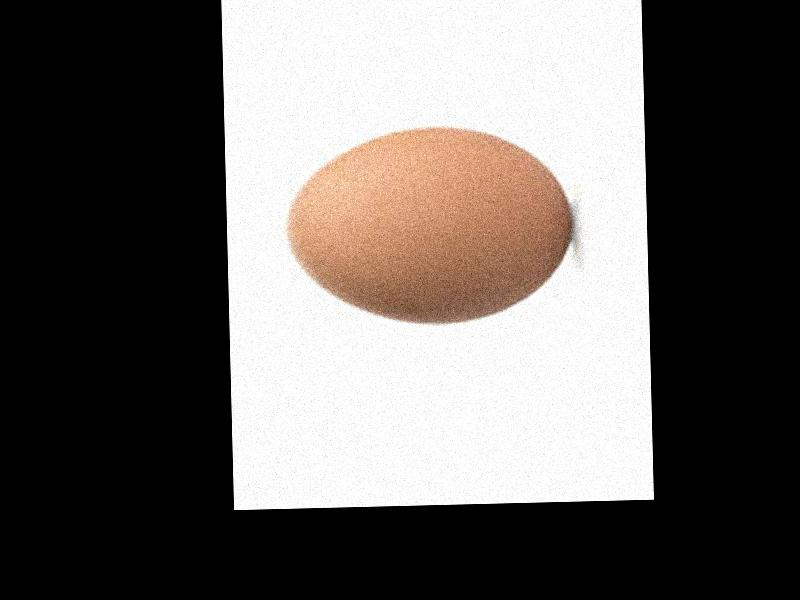Eggs: (288, 126, 576, 326)
